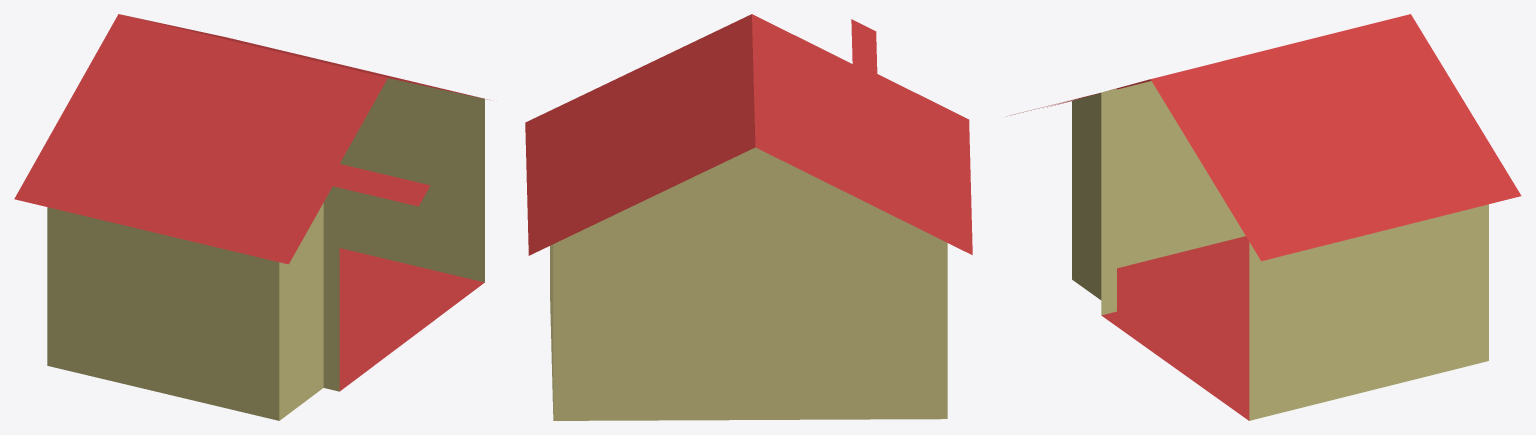
The picture shows the model from 3 angles, left to right: view 1: azimuth 30°, elevation 25°; view 2: azimuth 150°, elevation 25°; view 3: azimuth 270°, elevation 25°; orthographic projection. The views are drawn at different scales.
Bounding box in the file's own units: 16.4 × 16.39 × 9.43.
